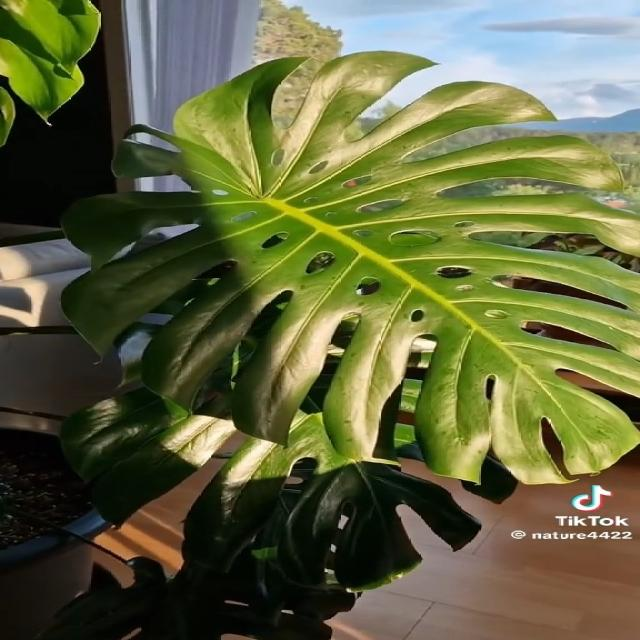roslina_zdrowa: (0, 50, 640, 640)
